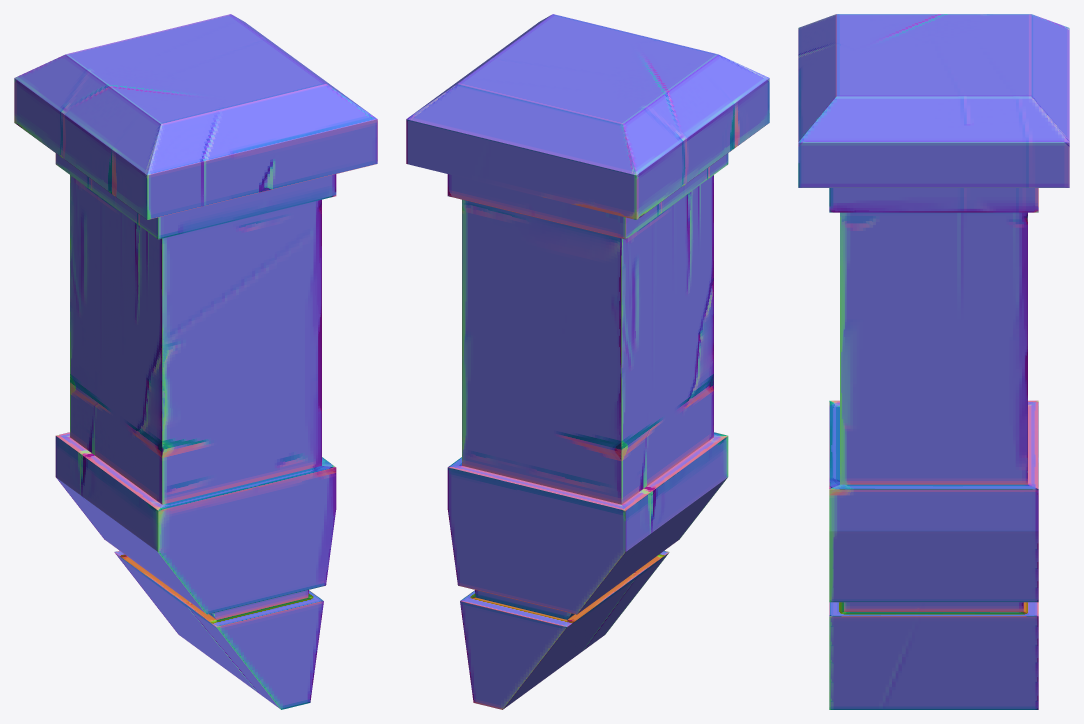
Rendered from StoneBuilds-Minipillar.fbx.
3 views of the same model, side by side, from view 1: azimuth 30°, elevation 25°; view 2: azimuth 150°, elevation 25°; view 3: azimuth 270°, elevation 25° (orthographic).
Parts seen in each view (by area): view 1: MiniPillar4; view 2: MiniPillar4; view 3: MiniPillar4.
Boxes of the visible parts, <box> form: MiniPillar4: <box>14,14,377,709</box>; MiniPillar4: <box>406,14,769,709</box>; MiniPillar4: <box>798,14,1069,709</box>.
Size of the model in its own units: 293 by 744 by 293.
Materials: 1 (1 with a texture image).
